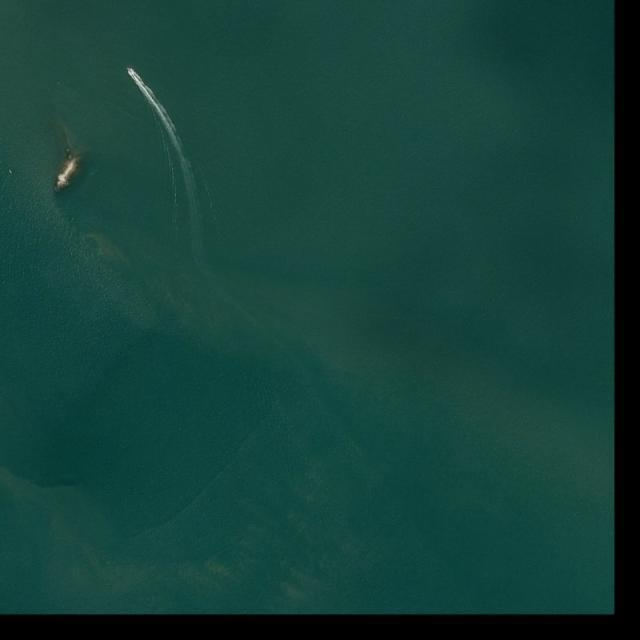ship: (126, 67, 133, 73), (7, 168, 13, 174)
